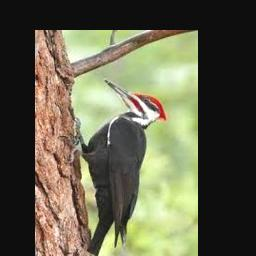Woodpecker: (62, 79, 167, 255)
